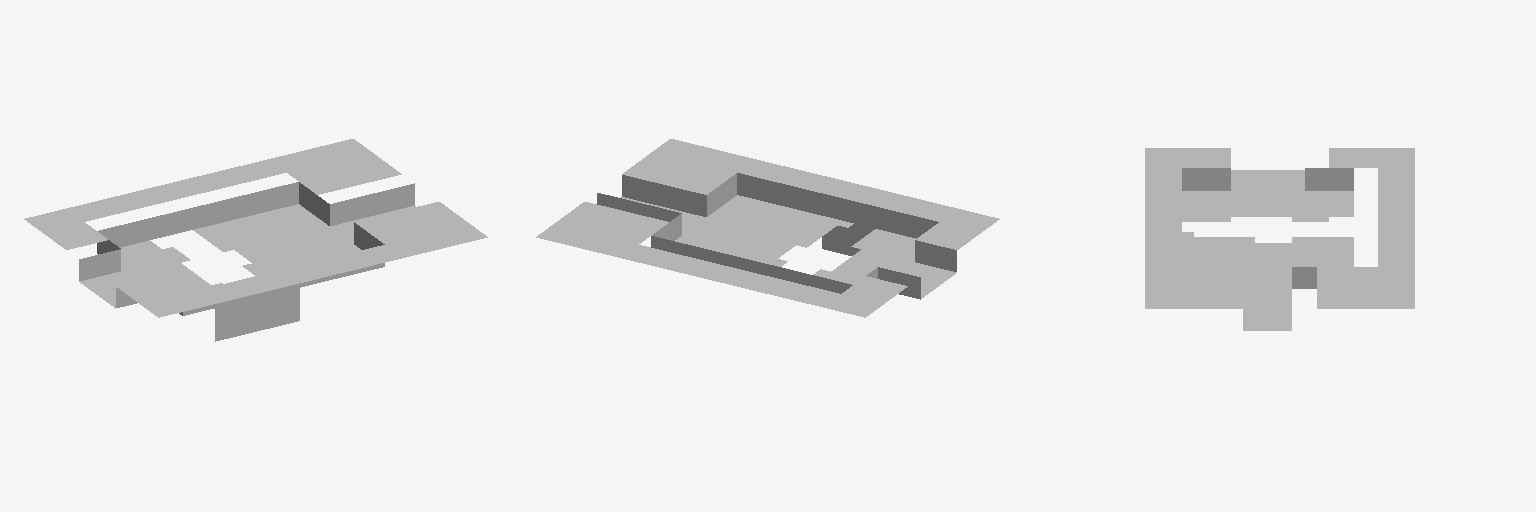
File: lvl_shipWalkway.obj
The picture shows the model from 3 angles: view 1: azimuth 30°, elevation 25°; view 2: azimuth 150°, elevation 25°; view 3: azimuth 270°, elevation 25°; orthographic projection.
Parts seen in each view (by area): view 1: Default; view 2: Default; view 3: Default.
Part boxes in pixels (left/top/right/bottom): Default: left=24, top=139, right=487, bottom=341; Default: left=536, top=139, right=999, bottom=317; Default: left=1145, top=148, right=1414, bottom=330.
Size of the model in its own units: 31 by 5 by 22.